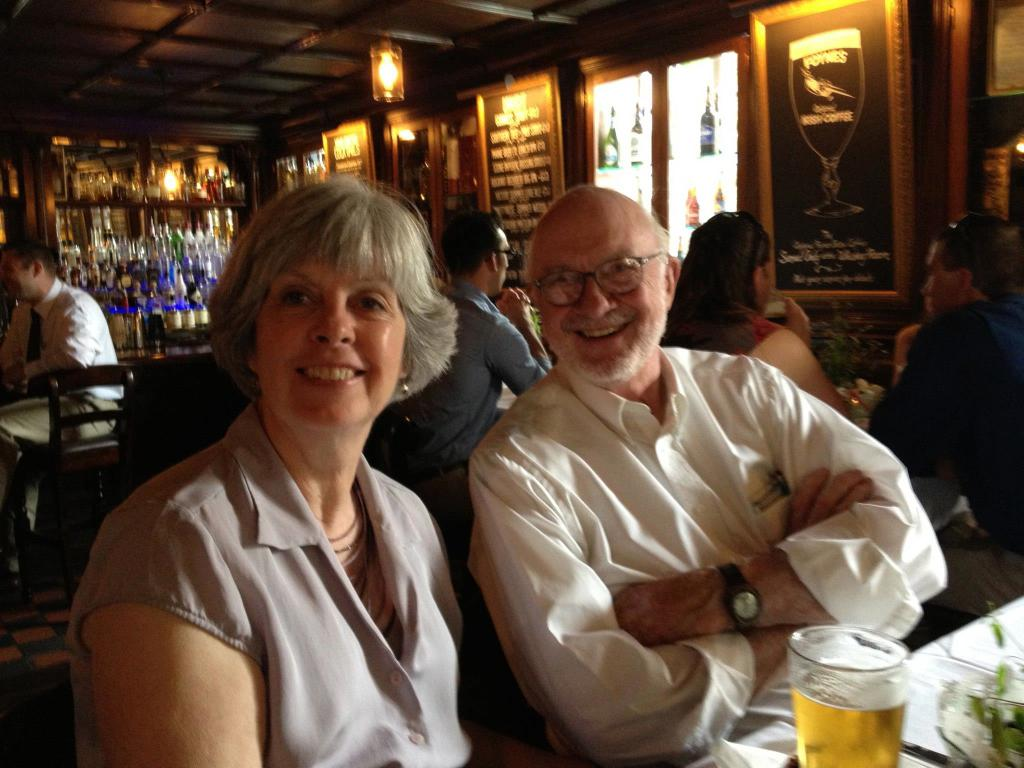Beer: (795, 657, 901, 767)
